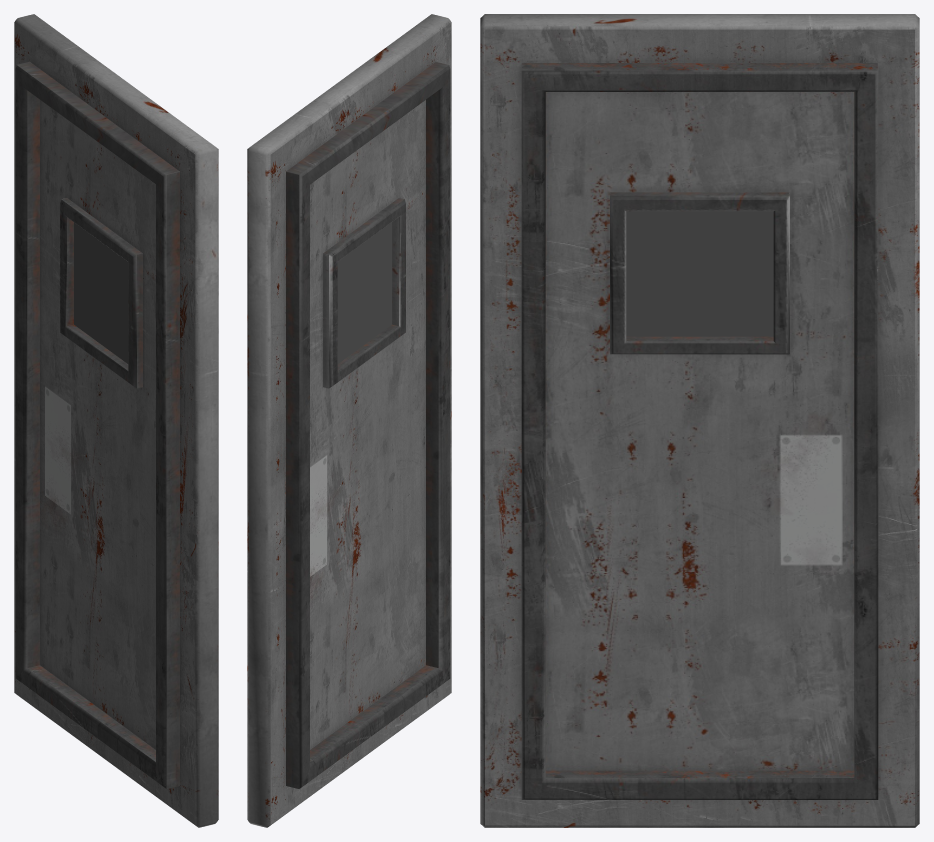
Rendered from door.fbx.
3 views of the same model, side by side, from view 1: azimuth 30°, elevation 25°; view 2: azimuth 150°, elevation 25°; view 3: azimuth 270°, elevation 25° (orthographic). The views are drawn at different scales.
Visible parts, largest first — view 1: defaultMaterial; view 2: defaultMaterial; view 3: defaultMaterial.
Boxes of the visible parts, left/top/right/bottom form: defaultMaterial: left=14, top=14, right=218, bottom=827; defaultMaterial: left=247, top=14, right=451, bottom=827; defaultMaterial: left=480, top=14, right=919, bottom=827.
Size of the model in its own units: 16.59 by 200 by 98.93.
